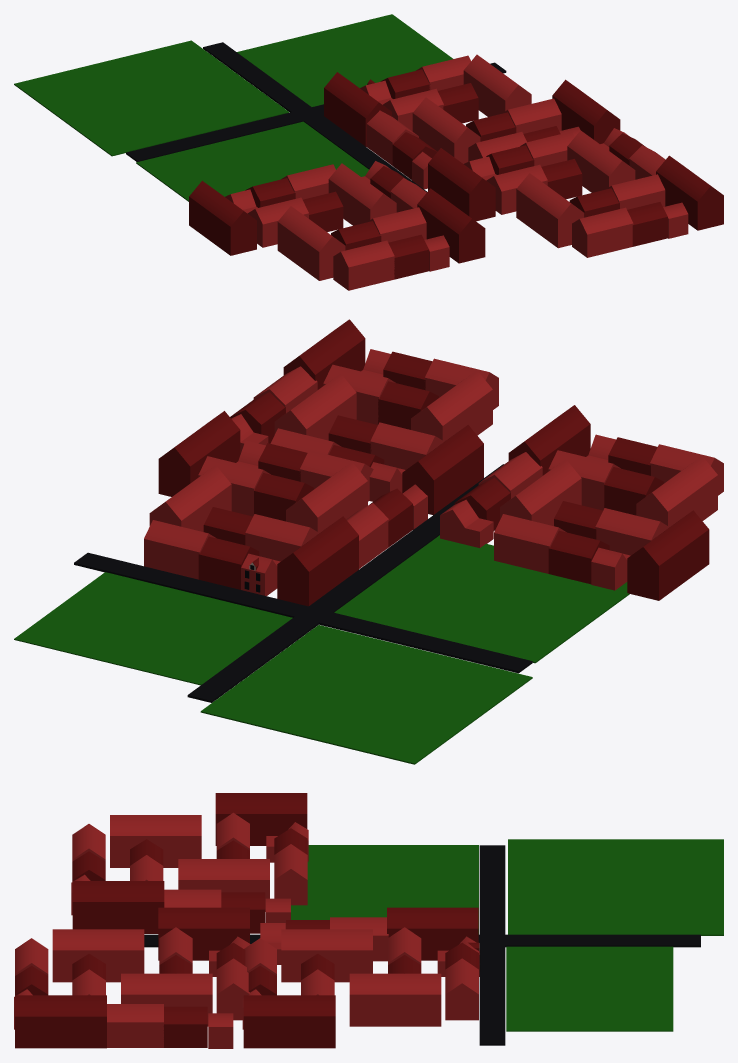
The model's file is Edgar Allen Poe House.FBX.
3 views of the same model, one above another, from view 1: azimuth 30°, elevation 25°; view 2: azimuth 150°, elevation 25°; view 3: azimuth 270°, elevation 25° (orthographic). The views are drawn at different scales.
Visible parts, largest first — view 1: Box004, Box005, Box003, Box002, Box030, Box046, Box060, Box062, Box034, Box048, Box001, Box014 (+37 smaller); view 2: Box004, Box003, Box005, Box001, Box002, Box030, Box014, Box062, Box020, Box060, Box046, Box026 (+38 smaller); view 3: Box004, Box005, Box003, Box001, Box020, Box019, Box048, Box034, Box060, Box026, Box046, Box062 (+39 smaller).
Boxes of the visible parts, x1,y1,x2,y2 form: Box004: [14, 40, 289, 156]; Box005: [237, 14, 452, 106]; Box003: [136, 121, 368, 201]; Box002: [203, 42, 426, 191]; Box030: [189, 180, 256, 255]; Box046: [277, 206, 345, 280]; Box060: [516, 173, 584, 248]; Box062: [428, 148, 495, 221]; Box034: [417, 188, 485, 263]; Box048: [656, 155, 723, 230]; Box001: [126, 62, 506, 161]; Box014: [324, 72, 391, 146]; Box004: [200, 625, 532, 764]; Box003: [334, 535, 629, 663]; Box005: [14, 572, 292, 685]; Box001: [74, 552, 532, 673]; Box002: [187, 464, 503, 702]; Box030: [627, 510, 709, 600]; Box014: [277, 516, 358, 606]; Box062: [402, 425, 483, 514]; Box020: [158, 411, 240, 496]; Box060: [411, 370, 492, 441]; Box046: [636, 456, 717, 526]; Box026: [286, 462, 367, 532]; Box004: [508, 839, 723, 935]; Box005: [506, 946, 673, 1031]; Box003: [291, 845, 478, 934]; Box001: [479, 845, 505, 1045]; Box020: [243, 995, 335, 1048]; Box019: [349, 973, 441, 1026]; Box048: [15, 995, 106, 1048]; Box034: [72, 881, 164, 933]; Box060: [52, 929, 144, 982]; Box026: [281, 929, 372, 982]; Box046: [110, 815, 201, 867]; Box062: [158, 907, 249, 960].
Size of the model in its own units: 264 by 26.73 by 366.
